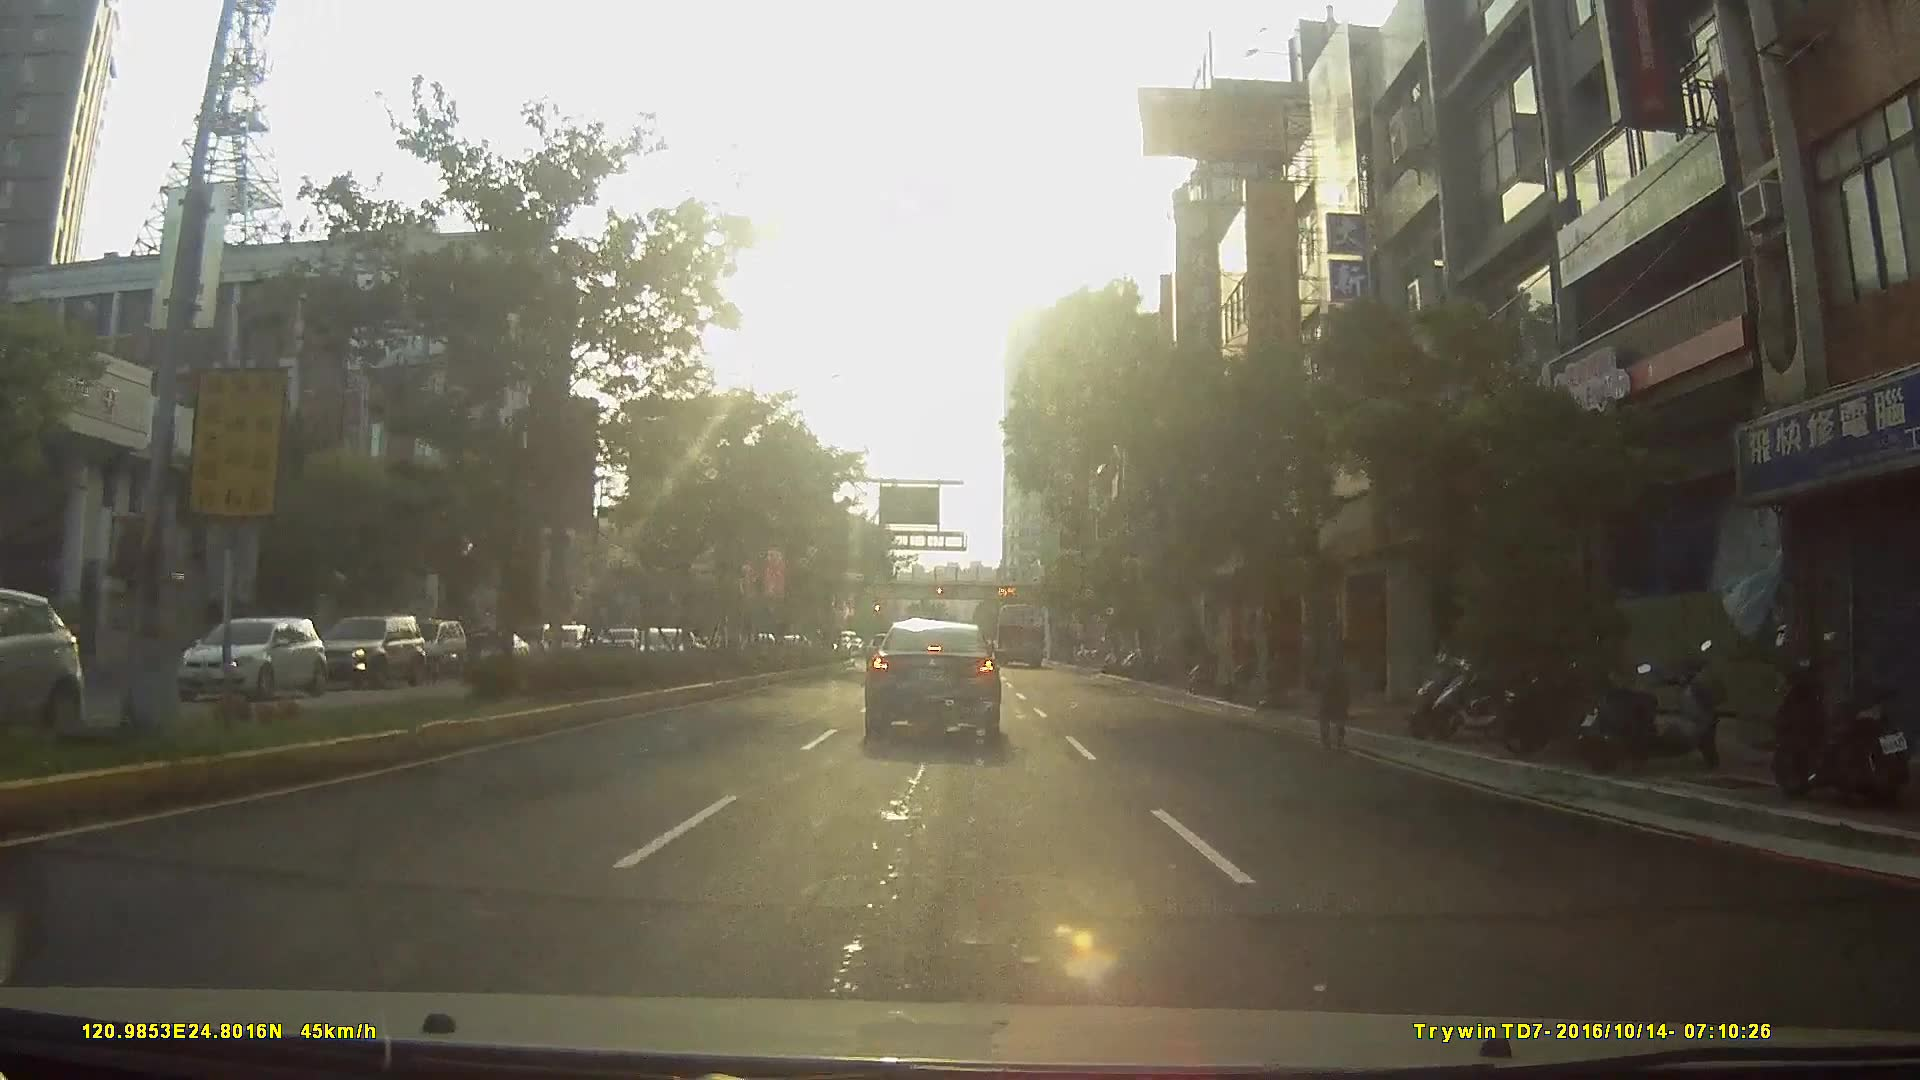pedestrian: (1306, 619, 1358, 752)
vehicle: (158, 613, 339, 709), (862, 618, 1001, 737), (298, 615, 435, 699), (394, 616, 465, 676), (995, 600, 1046, 667)
